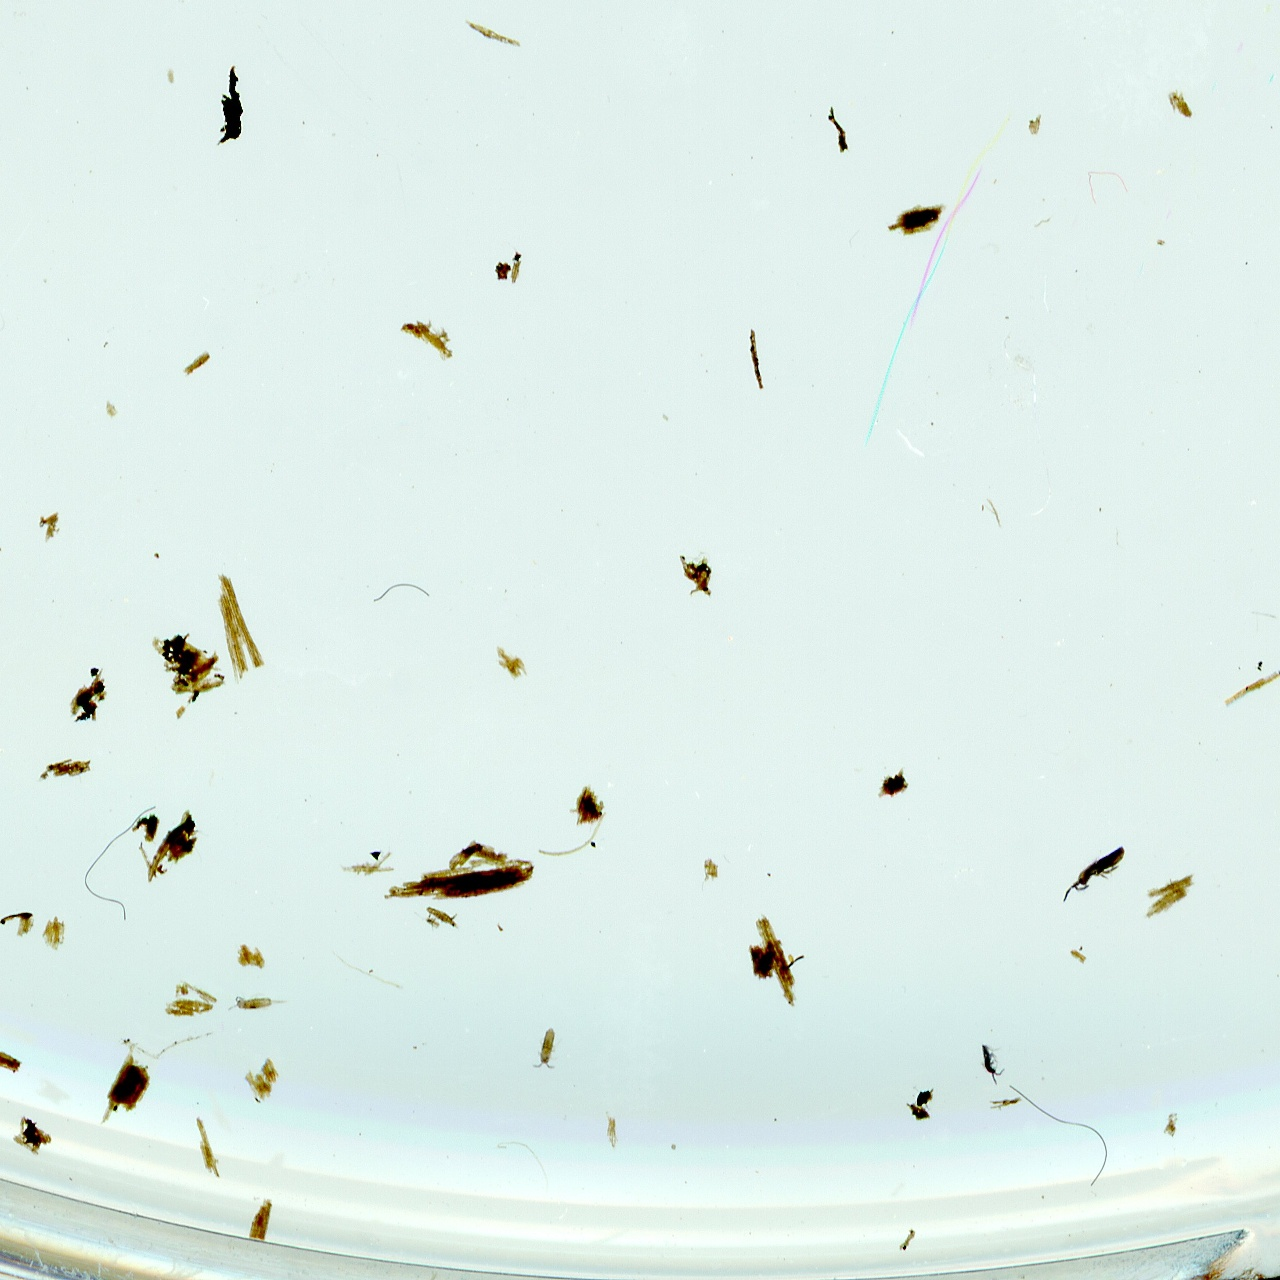arthropod: (1049, 833, 1139, 914), (531, 1024, 561, 1074), (225, 994, 291, 1016), (978, 1039, 1007, 1087)
